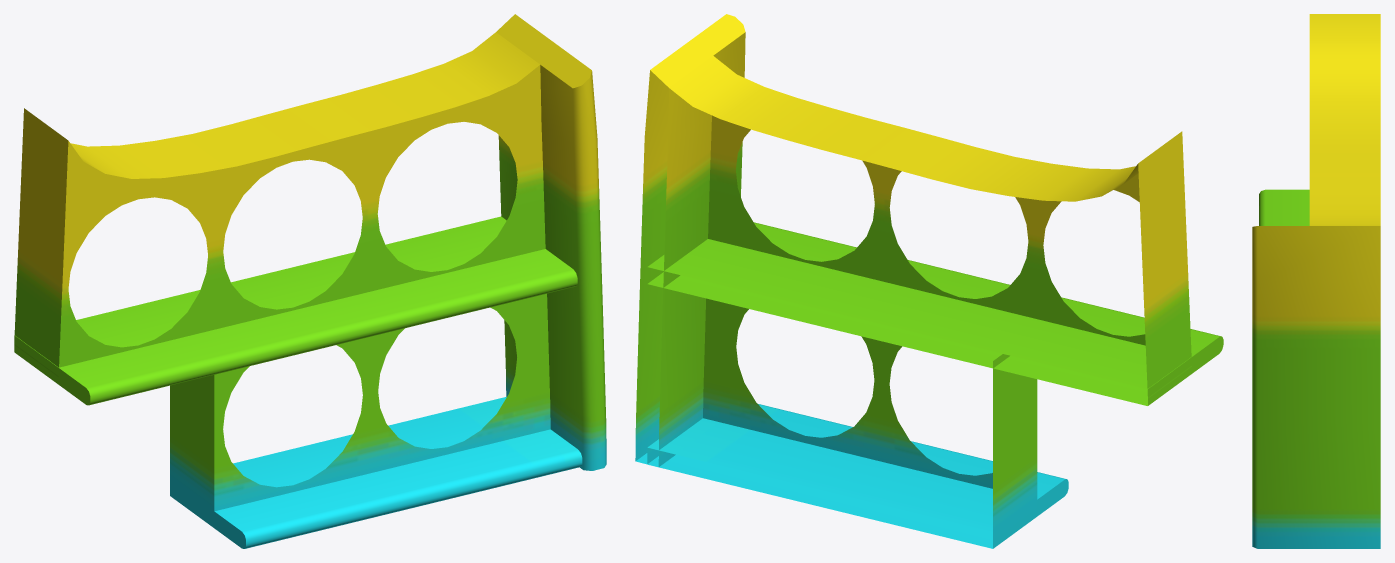
Rendered from AmongUs_Cut_03_0.FBX.
3 views of the same model, side by side, from view 1: azimuth 30°, elevation 25°; view 2: azimuth 150°, elevation 25°; view 3: azimuth 270°, elevation 25° (orthographic). The views are drawn at different scales.
Visible parts, largest first — view 1: AmongUs_Cut_03_0; view 2: AmongUs_Cut_03_0; view 3: AmongUs_Cut_03_0.
Part boxes in pixels (x1,y1,x2,y2): AmongUs_Cut_03_0: (14, 14, 606, 548); AmongUs_Cut_03_0: (635, 14, 1223, 548); AmongUs_Cut_03_0: (1252, 14, 1380, 548).
Size of the model in its own units: 2.75 by 0.74 by 2.16.
